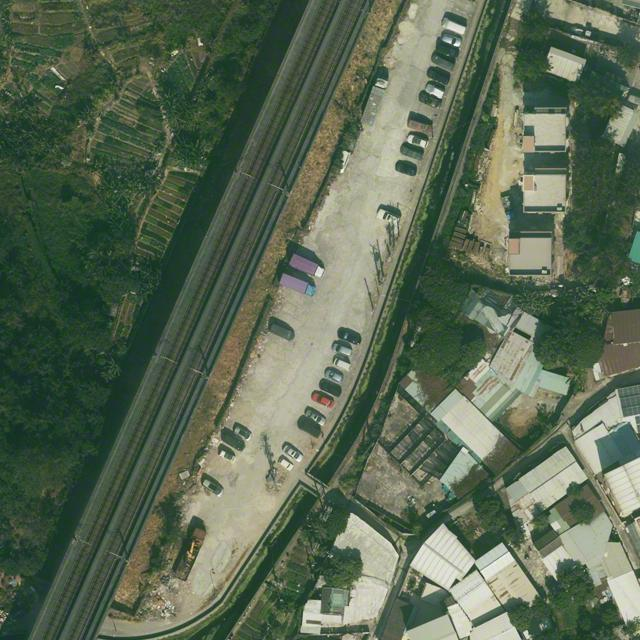SolarPanel: (617, 385, 639, 417)
